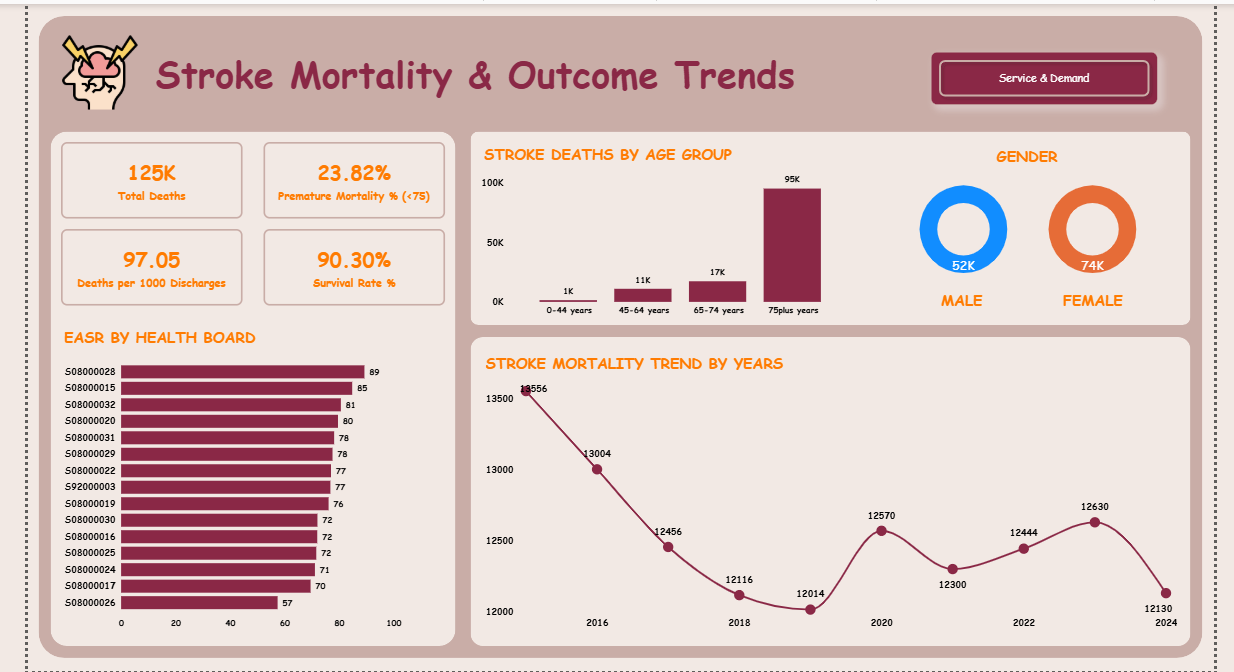

The dashboard page shown, as its layout file describes it:
{"tool":"powerbi","page":{"name":"Stroke Mortality & Outcome Trends","canvas":[1920,1080],"ordinal":1},"visuals":[{"type":"donutChart","fields":{"Category":["stroke_mortality.Gender"],"Y":["Dim_AgeGroup.Total Deaths"]},"box":[1395.8,249.4,235.6,228.3],"z":0,"group":"g1"},{"type":"shape","box":[17,19.4,1884.8,1039.5],"z":0},{"type":"donutChart","fields":{"Category":["Dim_Gender.Gender"],"Y":["Dim_AgeGroup.Total Deaths"]},"box":[1605.9,249.4,235.6,228.3],"z":1000,"group":"g1"},{"type":"textbox","box":[201.6,65.6,1195,111.7],"z":1000},{"type":"image","box":[53.4,46.1,126.3,131.2],"z":4000},{"type":"shape","box":[36.4,206.5,655.8,833.1],"z":5000},{"type":"shape","box":[716.5,539.2,1165.8,500.3],"z":6000},{"type":"shape","box":[716.5,206.5,1165.8,313.3],"z":7000},{"type":"card","fields":{"Values":["Dim_AgeGroup.Total Deaths"]},"box":[53.4,223.5,293.9,123.9],"z":8000},{"type":"card","fields":{"Values":["Dim_AgeGroup.Premature Mortality % (<75)"]},"box":[381.3,223.5,293.9,123.9],"z":9000},{"type":"card","fields":{"Values":["stroke_activity.Deaths per 1000 Discharges"]},"box":[53.4,364.3,293.9,123.9],"z":10000},{"type":"card","fields":{"Values":["Dim_AgeGroup.Survival Rate %"]},"box":[381.3,364.3,293.9,123.9],"z":11000},{"type":"textbox","box":[53.4,517.3,573.2,43.7],"z":12000},{"type":"barChart","fields":{"Category":["Dim_HealthBoard.HealthBoard"],"Y":["Dim_AgeGroup.Avg Mortality EASR"]},"box":[53.4,561.1,621.8,461.5],"z":13000},{"type":"lineChart","fields":{"Category":["Dim_Year.Year"],"Y":["Sum(stroke_mortality.NumberOfDeaths)"]},"box":[735.9,602.4,1129.4,420.2],"z":14000},{"type":"textbox","box":[735.9,558.6,573.2,43.7],"z":15000},{"type":"textbox","box":[733.5,221,573.2,43.7],"z":16000},{"type":"columnChart","fields":{"Category":["Dim_AgeGroup.AgeGroup"],"Y":["Dim_AgeGroup.Total Deaths"]},"box":[728.5,260.8,612.3,255.1],"z":17000},{"type":"textbox","box":[1488.9,223.5,257.5,43.7],"z":18000},{"type":"group","id":"g1","title":"Group 2","box":[1395.8,249.4,445.7,228.3],"z":19000},{"type":"textbox","box":[1428.7,456.4,167.2,45.4],"z":20000},{"type":"textbox","box":[1641.3,456.4,164.4,45.4],"z":21000},{"type":"actionButton","box":[1462.2,77.7,366.8,85],"z":22001}]}

Visuals, with their boxes on the page's 1920x1080 design canvas (x1, y1, x2, y2). These are canvas units, not pixel positions in the 1234x672 screenshot, which may show the page scaled, cropped or inside an application window:
donutChart - stroke_mortality.Gender x Dim_AgeGroup.Total Deaths: 1396, 249, 1631, 478
shape: 17, 19, 1902, 1059
donutChart - Dim_Gender.Gender x Dim_AgeGroup.Total Deaths: 1606, 249, 1842, 478
textbox: 202, 66, 1397, 177
image: 53, 46, 180, 177
shape: 36, 206, 692, 1040
shape: 716, 539, 1882, 1040
shape: 716, 206, 1882, 520
card - Dim_AgeGroup.Total Deaths: 53, 224, 347, 347
card - Dim_AgeGroup.Premature Mortality % (<75): 381, 224, 675, 347
card - stroke_activity.Deaths per 1000 Discharges: 53, 364, 347, 488
card - Dim_AgeGroup.Survival Rate %: 381, 364, 675, 488
textbox: 53, 517, 627, 561
barChart - Dim_HealthBoard.HealthBoard x Dim_AgeGroup.Avg Mortality EASR: 53, 561, 675, 1023
lineChart - Dim_Year.Year x Sum(stroke_mortality.NumberOfDeaths): 736, 602, 1865, 1023
textbox: 736, 559, 1309, 602
textbox: 734, 221, 1307, 265
columnChart - Dim_AgeGroup.AgeGroup x Dim_AgeGroup.Total Deaths: 728, 261, 1341, 516
textbox: 1489, 224, 1746, 267
"Group 2" group: 1396, 249, 1842, 478
textbox: 1429, 456, 1596, 502
textbox: 1641, 456, 1806, 502
actionButton: 1462, 78, 1829, 163
